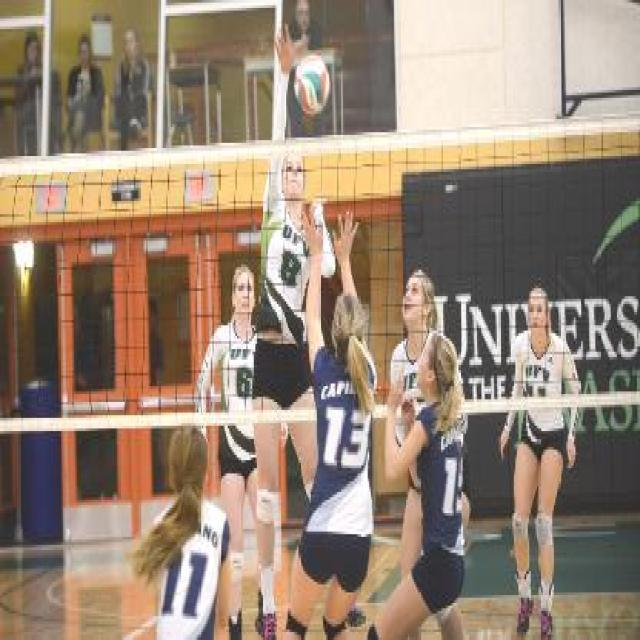volleyball: (294, 54, 330, 117)
